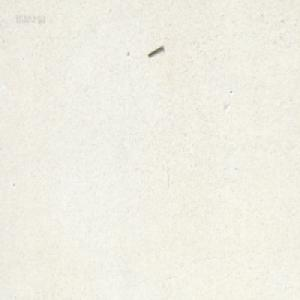Bolt: (147, 45, 163, 57)
